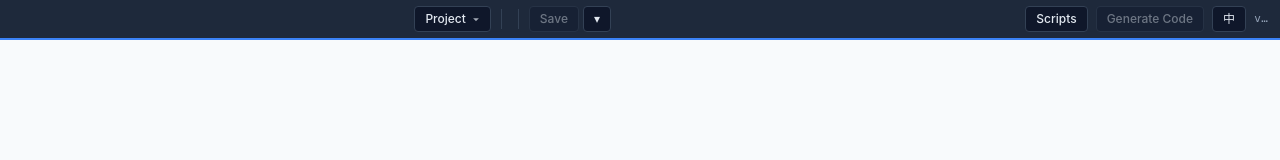
AppHeader Save All button (Sprint 16b T7) › Save All is disabled when no doc is dirty
The image size is (1280, 160).
# Menu open (P2) — Save All lives in the overflow dropdown.
Click the button with test id "btn-save-overflow": (597, 19) [583,6,611,32]
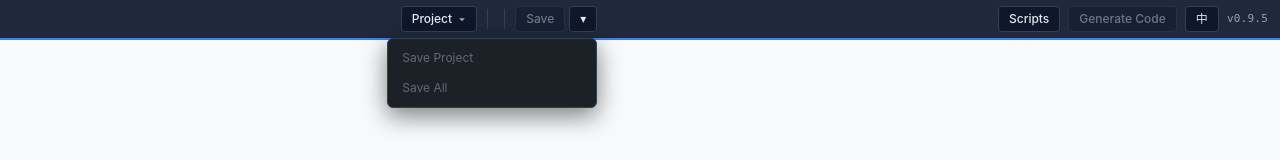
Check: the menu item with test id "btn-save-all" is disabled, box [392,73,592,103]
